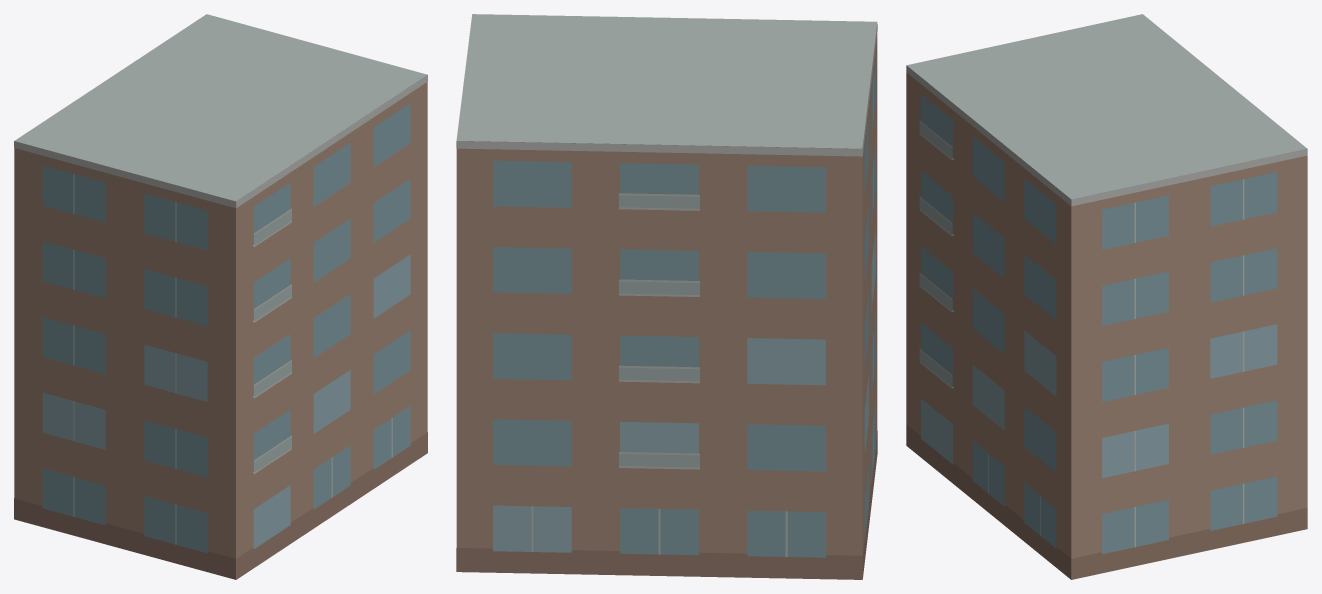
File: survey-upis-32840392.glb
3 views of the same model, side by side, from view 1: azimuth 30°, elevation 25°; view 2: azimuth 150°, elevation 25°; view 3: azimuth 270°, elevation 25° (orthographic). The views are drawn at different scales.
Parts seen in each view (by area): view 1: survey-upis-32840392.tmp; view 2: survey-upis-32840392.tmp; view 3: survey-upis-32840392.tmp.
Part boxes in pixels (box(x1,y1,x2,y2)): survey-upis-32840392.tmp: box(14, 14, 427, 579); survey-upis-32840392.tmp: box(456, 14, 877, 579); survey-upis-32840392.tmp: box(906, 14, 1307, 579).
Bounding box in the file's own units: 14.07 × 13.45 × 12.86.
